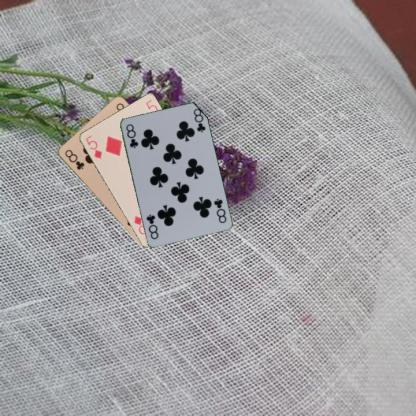5d: (82, 133, 104, 160)
8c: (62, 147, 85, 171), (211, 196, 228, 224), (123, 121, 139, 149)
